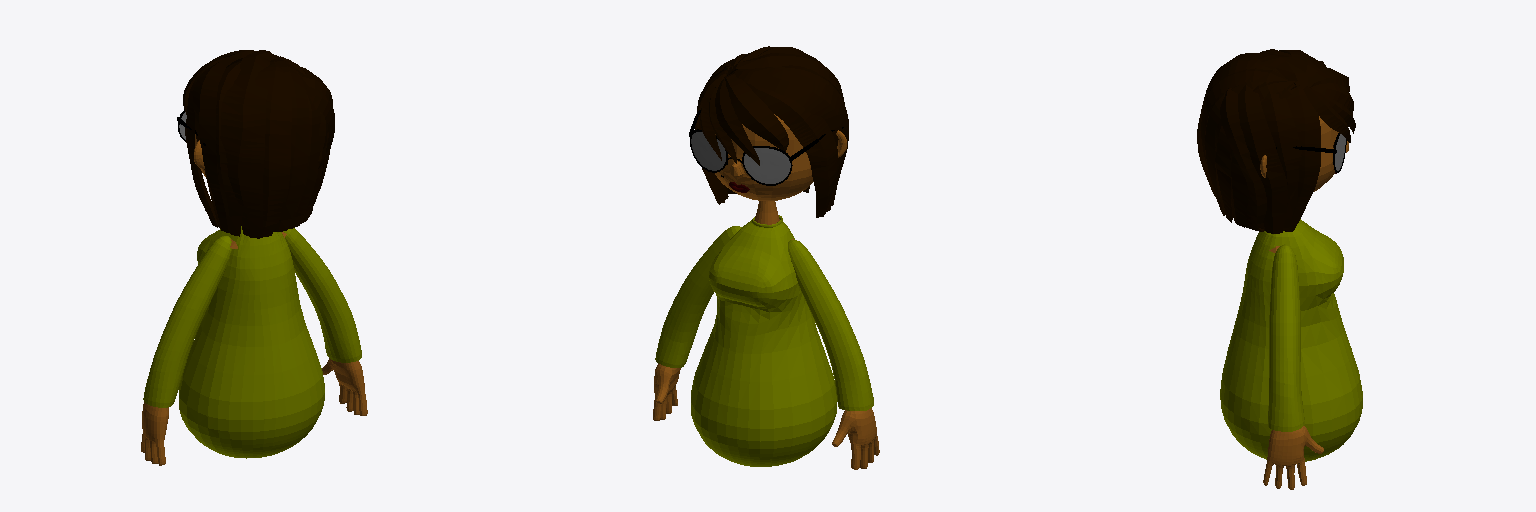
The model's file is S_BEA_201120.obj.
The picture shows the model from 3 angles: view 1: azimuth 30°, elevation 25°; view 2: azimuth 150°, elevation 25°; view 3: azimuth 270°, elevation 25°; orthographic projection.
Visible parts, largest first — view 1: Bea_body BEA, Bea_body BEA Bea_neck Bea_head Bea_hair, Bea_body BEA Bea_arm_R, Bea_body BEA Bea_arm_L; view 2: Bea_body BEA, Bea_body BEA Bea_neck Bea_head Bea_hair, Bea_body BEA Bea_arm_R, Bea_body BEA Bea_arm_L, Bea_body BEA Bea_neck Bea_head, Bea_body BEA Bea_neck Bea_head Bea_glasses; view 3: Bea_body BEA Bea_neck Bea_head Bea_hair, Bea_body BEA, Bea_body BEA Bea_arm_L, Bea_body BEA Bea_neck Bea_head, Bea_body BEA Bea_neck Bea_head Bea_glasses.
Part boxes in pixels (bbox=[...]): Bea_body BEA: bbox=[179, 226, 324, 458]; Bea_body BEA Bea_neck Bea_head Bea_hair: bbox=[183, 50, 334, 238]; Bea_body BEA Bea_arm_R: bbox=[141, 236, 231, 465]; Bea_body BEA Bea_arm_L: bbox=[283, 228, 367, 415]; Bea_body BEA: bbox=[691, 215, 836, 466]; Bea_body BEA Bea_neck Bea_head Bea_hair: bbox=[695, 46, 848, 217]; Bea_body BEA Bea_arm_R: bbox=[788, 240, 879, 469]; Bea_body BEA Bea_arm_L: bbox=[653, 226, 741, 420]; Bea_body BEA Bea_neck Bea_head: bbox=[715, 114, 813, 200]; Bea_body BEA Bea_neck Bea_head Bea_glasses: bbox=[689, 110, 843, 185]; Bea_body BEA Bea_neck Bea_head Bea_hair: bbox=[1197, 49, 1355, 233]; Bea_body BEA: bbox=[1220, 219, 1362, 461]; Bea_body BEA Bea_arm_L: bbox=[1263, 244, 1323, 489]; Bea_body BEA Bea_neck Bea_head: bbox=[1314, 116, 1348, 191]; Bea_body BEA Bea_neck Bea_head Bea_glasses: bbox=[1276, 133, 1346, 172].
Size of the model in its own units: 4.89 by 8.71 by 3.3.